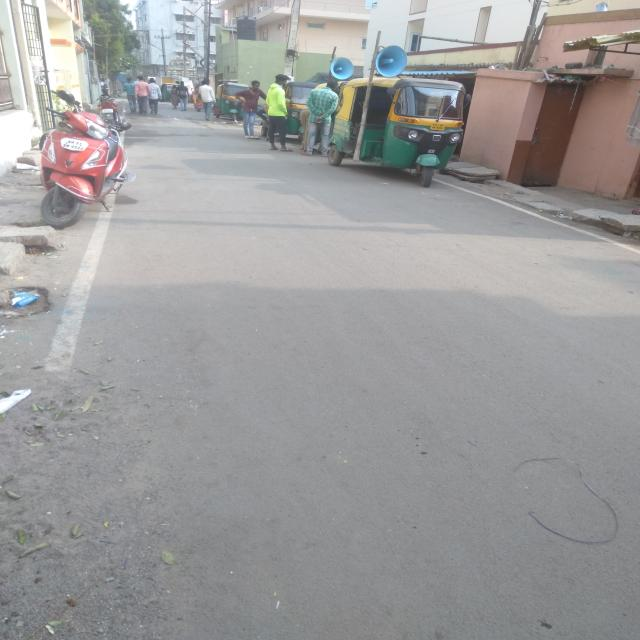Autorickshaw: (328, 65, 491, 189), (260, 68, 338, 153), (207, 77, 260, 122), (155, 79, 185, 103)
Bike: (31, 99, 129, 225), (88, 88, 141, 133)
